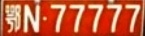N: (24, 4, 40, 32)
